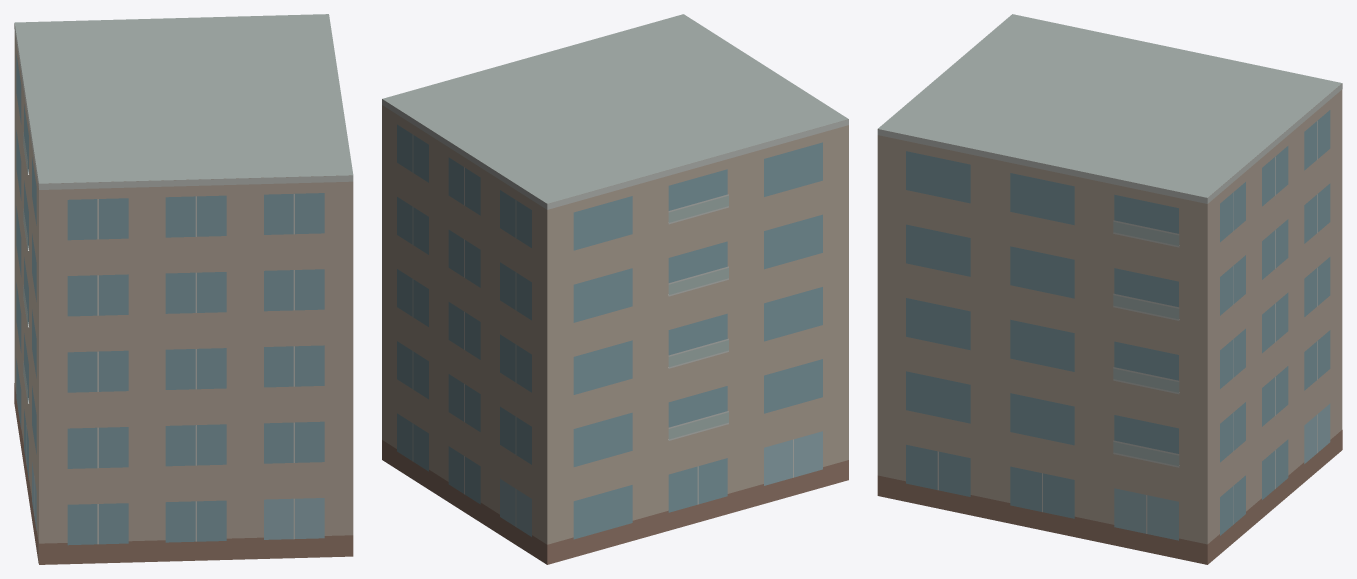
File: survey-upis-32894320.glb
The picture shows the model from 3 angles, left to right: view 1: azimuth 30°, elevation 25°; view 2: azimuth 150°, elevation 25°; view 3: azimuth 270°, elevation 25°; orthographic projection. The views are drawn at different scales.
Visible parts, largest first — view 1: survey-upis-32894320.tmp; view 2: survey-upis-32894320.tmp; view 3: survey-upis-32894320.tmp.
Boxes of the visible parts, x1,y1,x2,y2 form: survey-upis-32894320.tmp: (14,14,353,564); survey-upis-32894320.tmp: (382,14,848,564); survey-upis-32894320.tmp: (877,14,1342,564).
Size of the model in its own units: 15.7 by 14.6 by 16.77.
